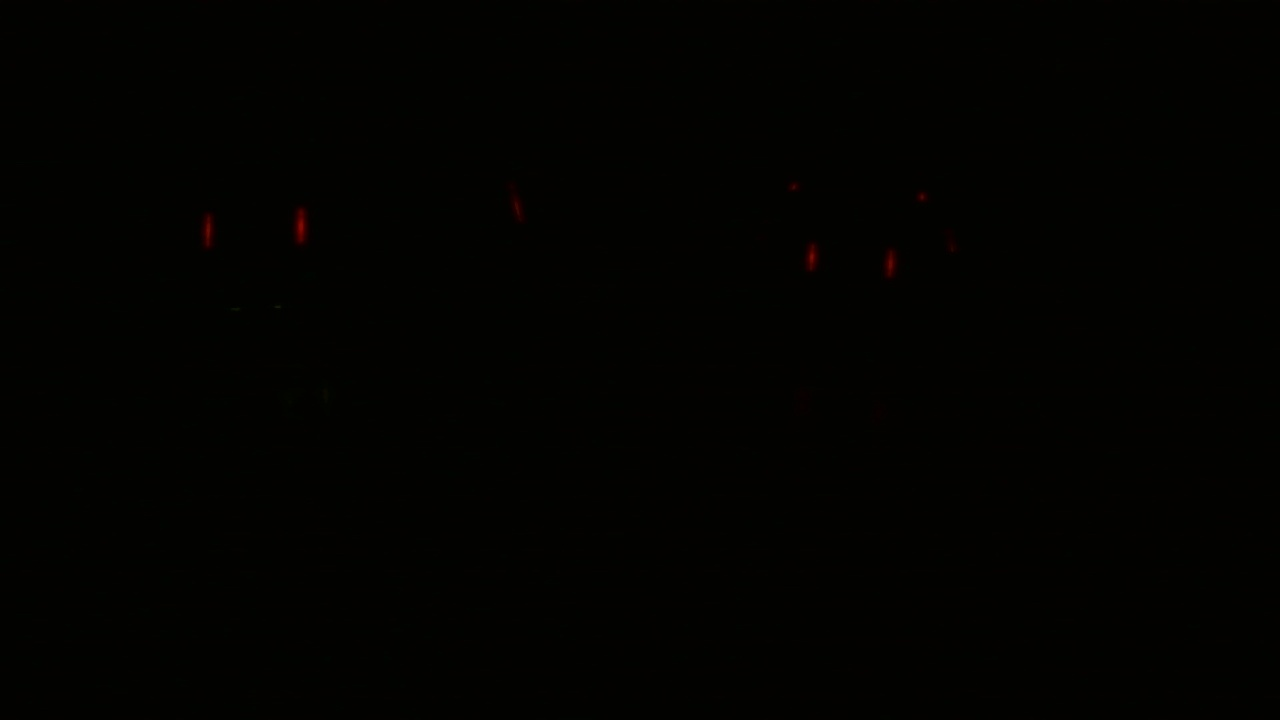pair1: (194, 200, 319, 263)
pair2: (794, 239, 912, 290)
